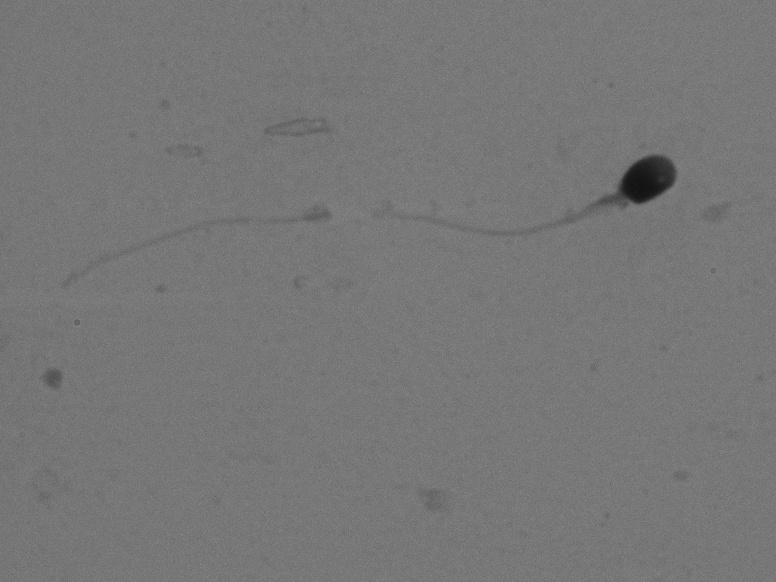Abnormal: (46, 144, 691, 329)
